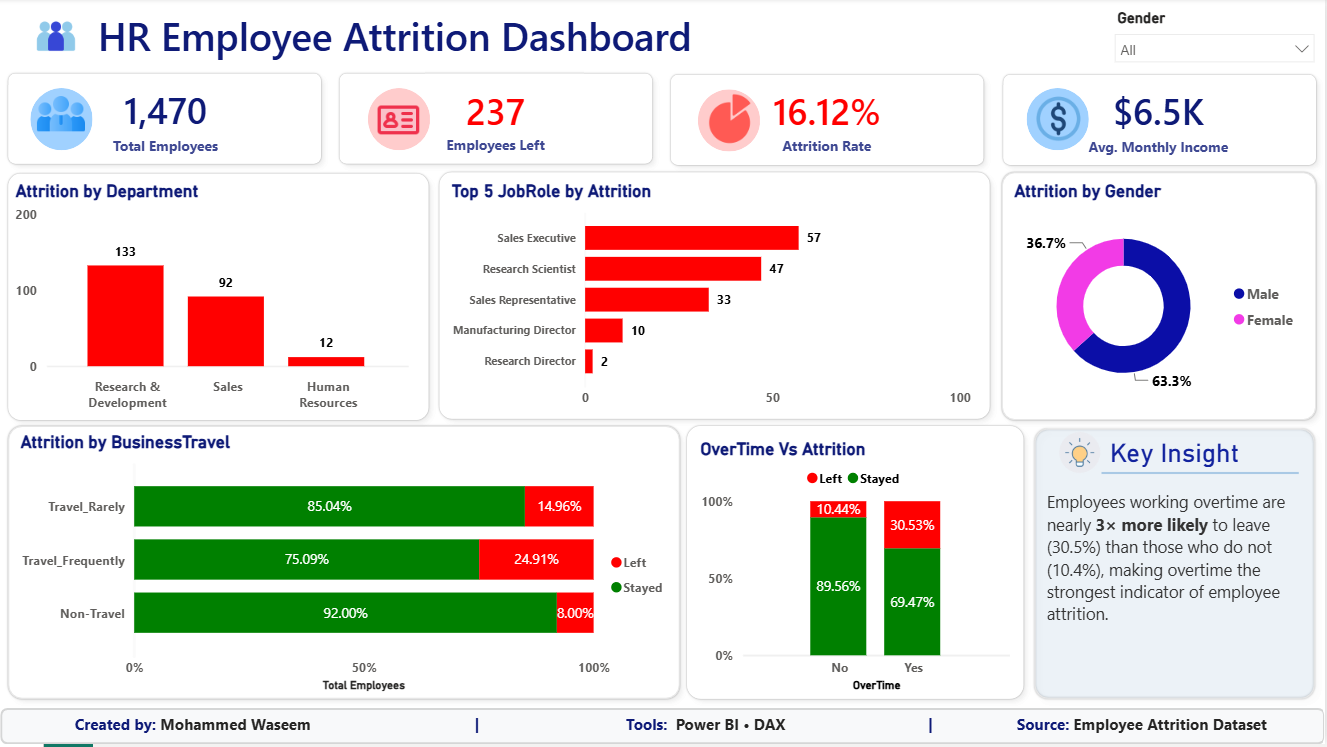

What the dashboard file says about the page in this screenshot:
{"tool":"powerbi","page":{"name":"Overview","canvas":[1280,720],"ordinal":0},"visuals":[{"type":"shape","box":[960.3,65.1,319.7,105],"z":0},{"type":"shape","box":[639.4,65.1,319.7,105],"z":1000},{"type":"shape","box":[319.7,63.9,319.7,105],"z":2000},{"type":"shape","box":[0,63.9,319.7,105],"z":3000},{"type":"shape","box":[0,404.2,666,281.1],"z":4000},{"type":"shape","box":[959.1,159.3,320.9,257],"z":5000},{"type":"textbox","box":[90.5,6,801.1,62.7],"z":6000},{"type":"cardVisual","fields":{"Data":["hr_analytics employees.Total Employees"]},"box":[71.2,67.6,179.8,100.1],"z":7000},{"type":"shape","box":[0,160.5,423.5,255.8],"z":8000},{"type":"shape","box":[416.2,159.3,548.9,255.8],"z":9000},{"type":"shape","box":[655.1,404.2,342.6,281.1],"z":10000},{"type":"columnChart","title":"Attrition by Department","fields":{"Y":["hr_analytics employees.Employees Left"],"Category":["hr_analytics employees.Department"]},"box":[10.9,176.1,389.7,230.4],"z":11000},{"type":"barChart","title":"Top 5 JobRole by Attrition","fields":{"Y":["hr_analytics employees.Employees Left"],"Category":["hr_analytics employees.JobRole"]},"box":[431.9,176.1,511.5,228],"z":12000},{"type":"hundredPercentStackedColumnChart","title":"OverTime Vs Attrition","fields":{"Category":["hr_analytics employees.OverTime"],"Y":["hr_analytics employees.Total Employees"],"Series":["hr_analytics employees.Attrition Status"]},"box":[672,424.7,308.8,249.7],"z":13000},{"type":"donutChart","title":"Attrition by Gender","fields":{"Y":["hr_analytics employees.Employees Left"],"Category":["hr_analytics employees.Gender"]},"box":[974.8,176.1,288.3,223.2],"z":14000},{"type":"hundredPercentStackedBarChart","title":"Attrition by BusinessTravel ","fields":{"Category":["hr_analytics employees.BusinessTravel"],"Y":["hr_analytics employees.Total Employees"],"Series":["hr_analytics employees.Attrition Status"]},"box":[15.7,418.6,639.4,255.8],"z":15000},{"type":"shape","box":[990.5,406.6,288.3,278.7],"z":16000},{"type":"textbox","title":"Key Insight","box":[1006.2,424.7,257,225.6],"z":17000},{"type":"slicer","fields":{"Values":["hr_analytics employees.Gender"]},"box":[1066.5,6,213.5,63.9],"z":18000},{"type":"cardVisual","fields":{"Data":["hr_analytics employees.Employees Left"]},"box":[395.7,66.4,167.7,102.5],"z":19000},{"type":"cardVisual","fields":{"Data":["hr_analytics employees.Attrition Rate"]},"box":[715.4,70,167.7,96.5],"z":20000},{"type":"cardVisual","fields":{"Data":["hr_analytics employees.Average Monthly Income"]},"box":[1019.4,65.1,199.1,106.2],"z":21000},{"type":"image","box":[35,86.9,49.5,49.5],"z":22000},{"type":"shape","box":[30.2,86.9,60.3,60.3],"z":23000},{"type":"image","box":[680.4,91.7,49.5,49.5],"z":24000},{"type":"shape","box":[355.9,86.9,60.3,60.3],"z":25000},{"type":"shape","box":[674.4,88.1,60.3,60.3],"z":26000},{"type":"image","box":[360.7,92.9,49.5,49.5],"z":27000},{"type":"shape","box":[991.7,86.9,60.3,60.3],"z":28000},{"type":"image","box":[997.7,91.7,49.5,49.5],"z":29000},{"type":"image","box":[35,16.9,39.8,39.8],"z":30000},{"type":"image","box":[1023.1,418.6,39.8,39.8],"z":31000},{"type":"shape","box":[1064.1,433.1,190.6,50.7],"z":32000},{"type":"shape","box":[1.2,685.3,1278.8,35],"z":33000},{"type":"textbox","box":[27.7,685.3,1224.5,35],"z":34000}]}

Visuals, with their boxes in screenshot pixels (x1, y1, x2, y2), scaled from the page's 1280x720 canvas onto the 1327x747 screenshot:
shape: (996,68,1326,176)
shape: (663,68,994,176)
shape: (331,66,663,175)
shape: (0,66,331,175)
shape: (0,419,690,711)
shape: (994,165,1326,432)
textbox: (94,6,924,71)
cardVisual - hr_analytics employees.Total Employees: (74,70,260,174)
shape: (0,167,439,432)
shape: (431,165,1001,431)
shape: (679,419,1034,711)
"Attrition by Department" columnChart: (11,183,415,422)
"Top 5 JobRole by Attrition" barChart: (448,183,978,419)
"OverTime Vs Attrition" hundredPercentStackedColumnChart: (697,441,1017,700)
"Attrition by Gender" donutChart: (1011,183,1309,414)
"Attrition by BusinessTravel " hundredPercentStackedBarChart: (16,434,679,700)
shape: (1027,422,1326,711)
"Key Insight" textbox: (1043,441,1310,675)
slicer - hr_analytics employees.Gender: (1106,6,1326,73)
cardVisual - hr_analytics employees.Employees Left: (410,69,584,175)
cardVisual - hr_analytics employees.Attrition Rate: (742,73,916,173)
cardVisual - hr_analytics employees.Average Monthly Income: (1057,68,1263,178)
image: (36,90,88,142)
shape: (31,90,94,153)
image: (705,95,757,146)
shape: (369,90,431,153)
shape: (699,91,762,154)
image: (374,96,425,148)
shape: (1028,90,1091,153)
image: (1034,95,1086,146)
image: (36,18,78,59)
image: (1061,434,1102,476)
shape: (1103,449,1301,502)
shape: (1,711,1326,746)
textbox: (29,711,1298,746)
